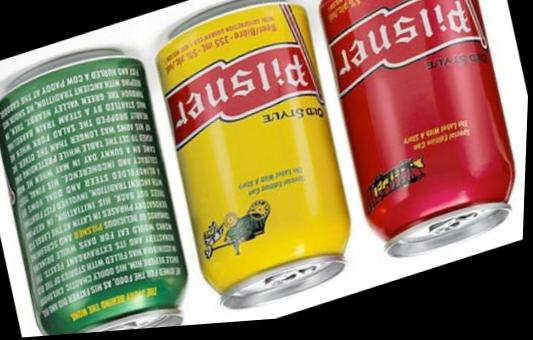metal: (157, 3, 349, 308), (0, 56, 185, 334), (321, 0, 513, 256)
